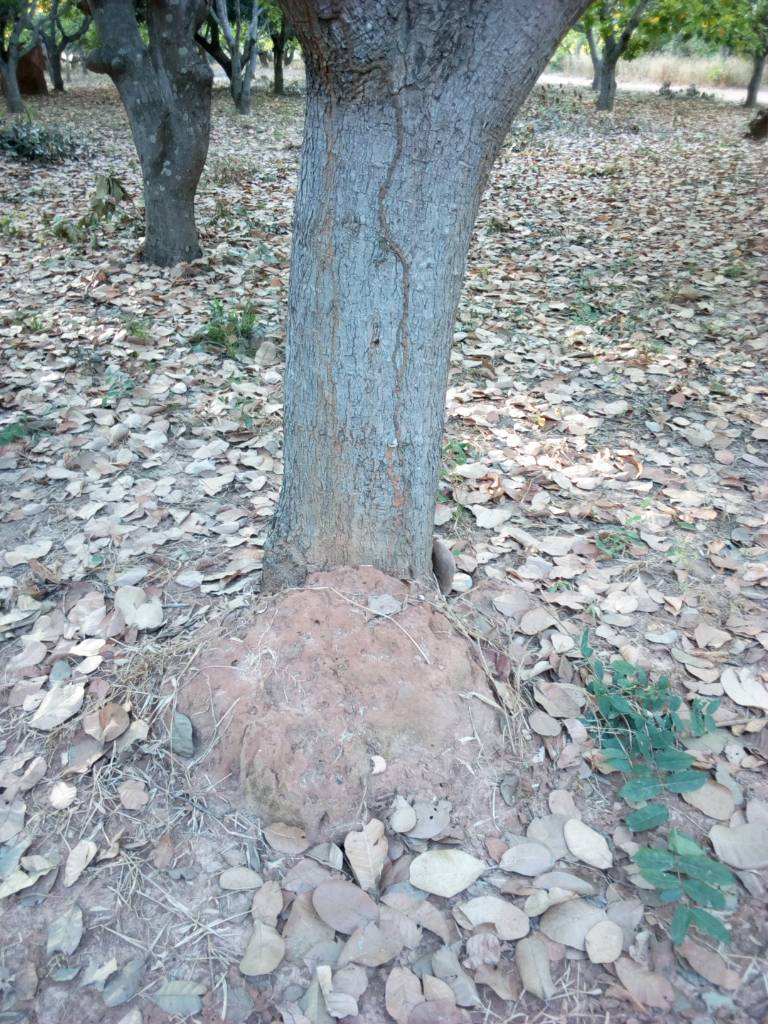Termites: (205, 571, 485, 799), (341, 67, 424, 553)
